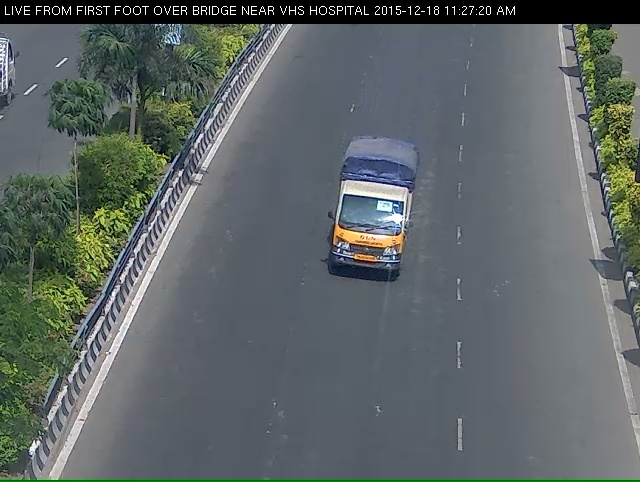Car: (321, 141, 421, 306)
